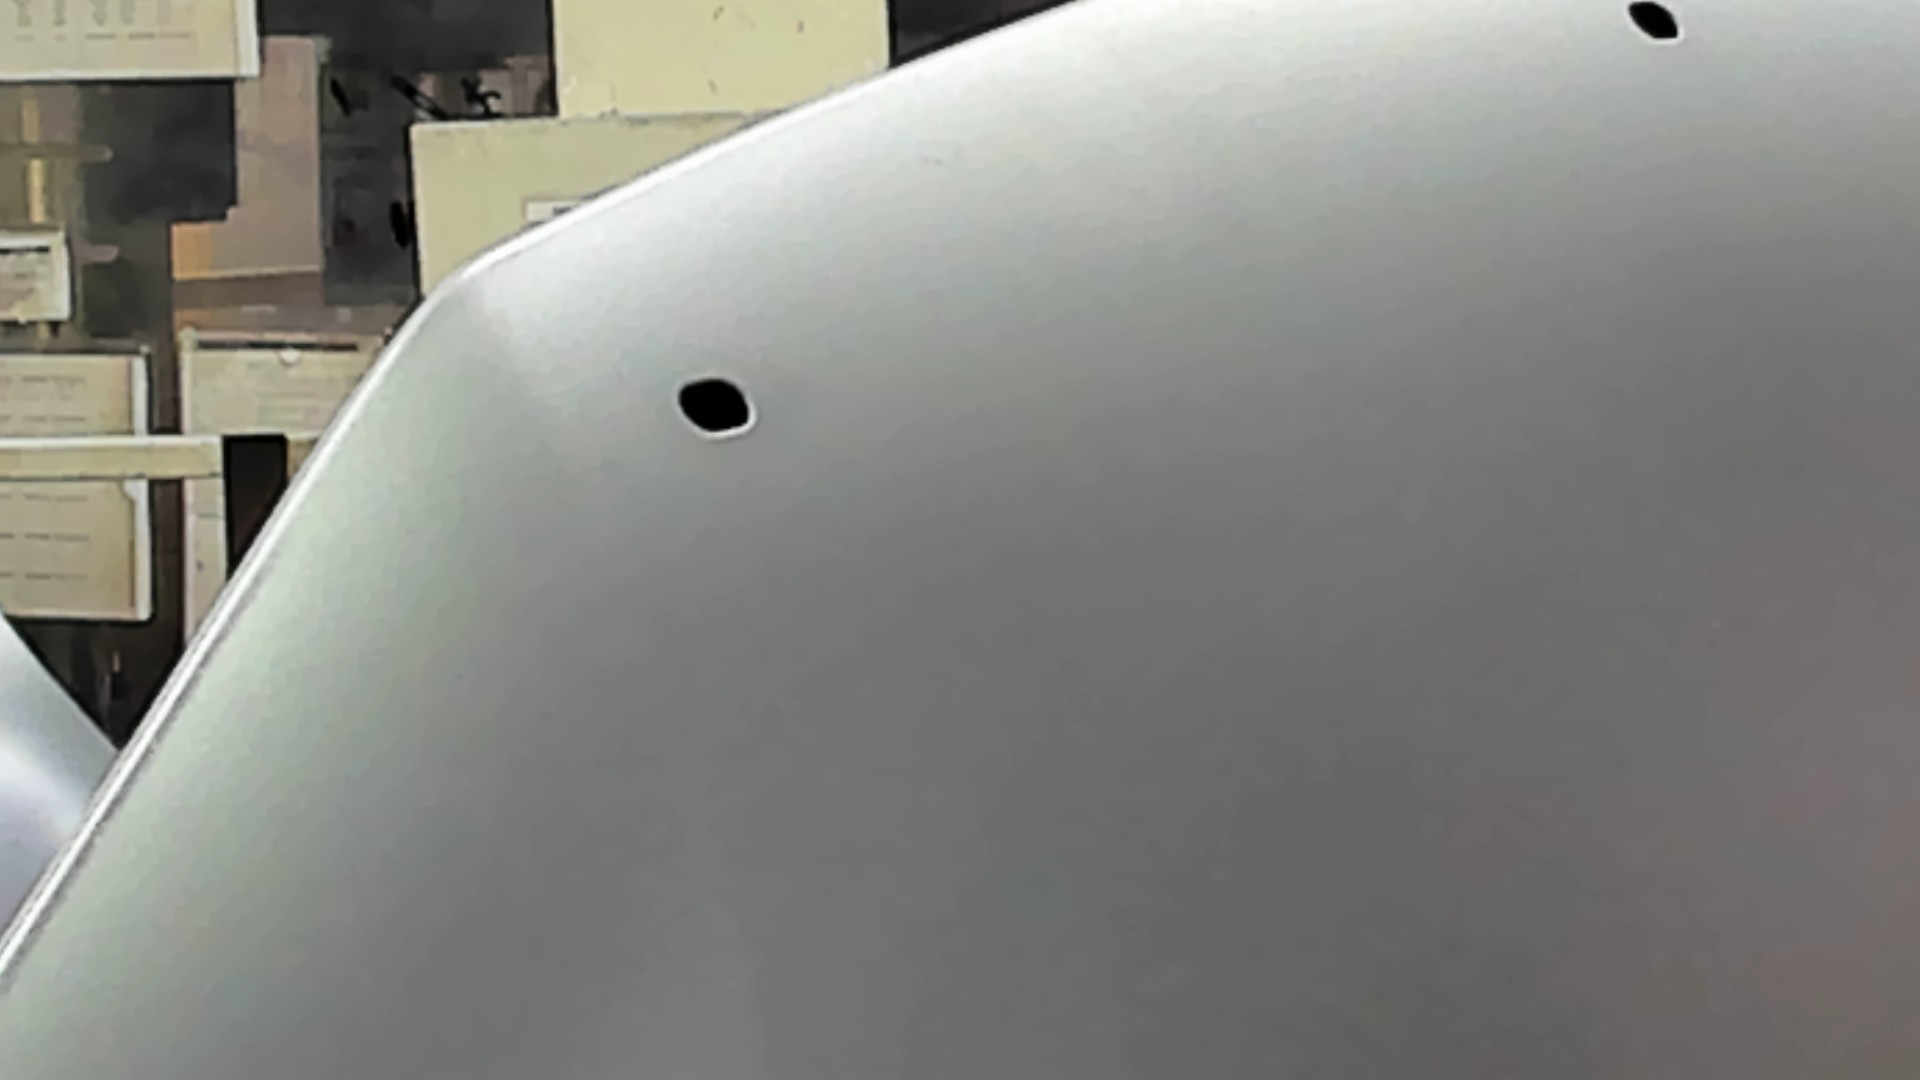amorfo: (671, 375, 760, 440), (1625, 1, 1687, 49)
capo: (899, 109, 1909, 1080)
